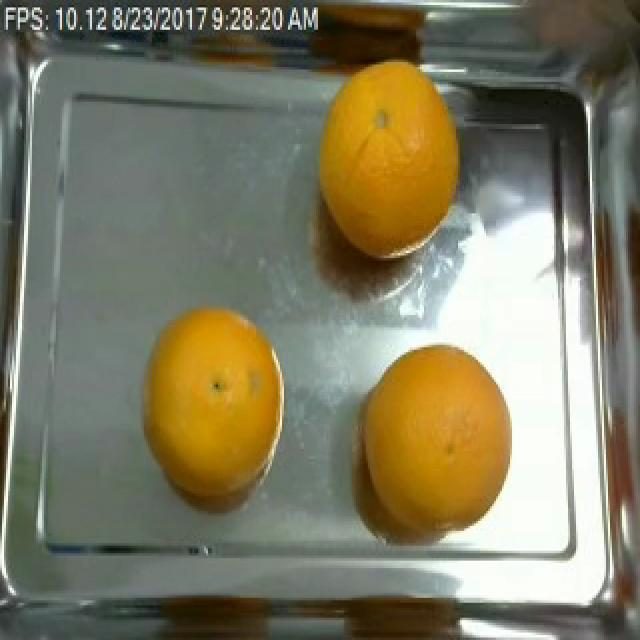Fruit: (346, 330, 526, 541), (300, 45, 464, 253), (134, 295, 288, 484), (154, 575, 282, 640)
